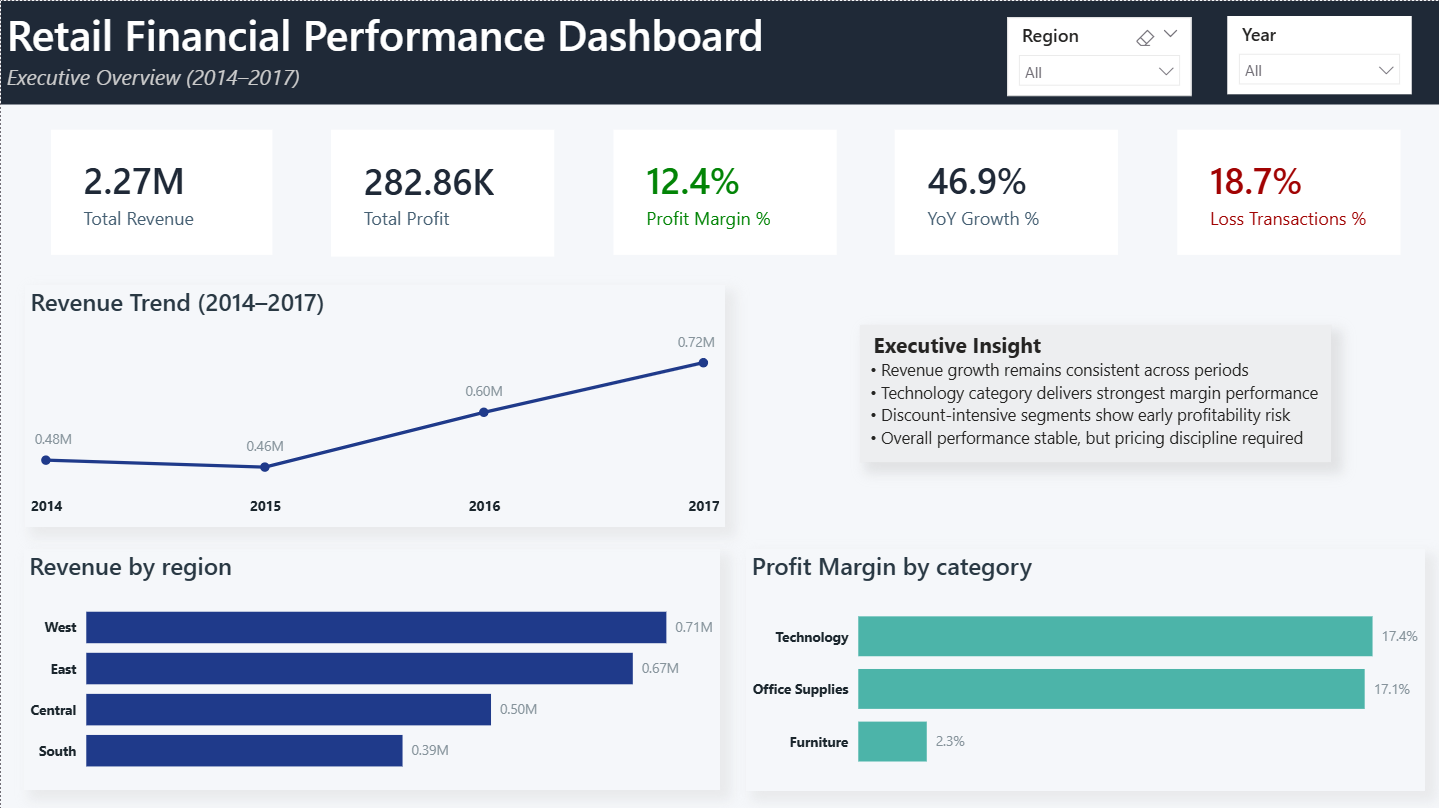

The dashboard page shown, as its layout file describes it:
{"tool":"powerbi","page":{"name":"Executive Overview","canvas":[1280,720],"ordinal":0},"visuals":[{"type":"cardVisual","fields":{"Data":["retail_analysis orders.Total Revenue"]},"box":[44,114.9,196.9,111.3],"z":0},{"type":"cardVisual","fields":{"Data":["retail_analysis orders.Profit Margin %"]},"box":[544.2,114.9,198.1,111.3],"z":1000},{"type":"cardVisual","fields":{"Data":["retail_analysis orders.YoY Growth %"]},"box":[794.8,114.9,198.1,111.3],"z":2000},{"type":"cardVisual","fields":{"Data":["retail_analysis orders.Loss Transactions %"]},"box":[1045.5,114.9,198.1,111.3],"z":3000},{"type":"lineChart","title":"Revenue Trend (2014–2017)","fields":{"Category":["retail_analysis orders.order_date.Variation.Date Hierarchy.Year"],"Y":["retail_analysis orders.Total Revenue"]},"box":[20.8,251.9,622.4,215.2],"z":4000},{"type":"barChart","title":"Revenue by region","fields":{"Category":["retail_analysis orders.region"],"Y":["retail_analysis orders.Total Revenue"]},"box":[20.5,486.2,618.9,214.7],"z":5000},{"type":"barChart","title":"Profit Margin by category","fields":{"Category":["retail_analysis products.category"],"Y":["retail_analysis orders.Profit Margin %"]},"box":[662.8,486.7,604.1,215.2],"z":6000},{"type":"textbox","box":[0,0,1280.3,91.7],"z":7000},{"type":"cardVisual","fields":{"Data":["retail_analysis orders.Total Profit"]},"box":[293.5,114.9,198.1,112.5],"z":8000},{"type":"slicer","fields":{"Values":["retail_analysis orders.region"]},"box":[893.9,14.7,163.9,69.7],"z":9000},{"type":"slicer","fields":{"Values":["retail_analysis orders.order_date.Variation.Date Hierarchy.Year","retail_analysis orders.order_date.Variation.Date Hierarchy.Quarter","retail_analysis orders.order_date.Variation.Date Hierarchy.Month","retail_analysis orders.order_date.Variation.Date Hierarchy.Day"]},"box":[1089.5,13.5,163.9,69.7],"z":10000},{"type":"textbox","box":[763,287.4,419.4,122.3],"z":11000}]}

Visuals, with their boxes in screenshot pixels (x1, y1, x2, y2), scaled from the page's 1280x720 canvas onto the 1439x808 screenshot:
cardVisual - retail_analysis orders.Total Revenue: left=49, top=129, right=271, bottom=254
cardVisual - retail_analysis orders.Profit Margin %: left=612, top=129, right=835, bottom=254
cardVisual - retail_analysis orders.YoY Growth %: left=894, top=129, right=1116, bottom=254
cardVisual - retail_analysis orders.Loss Transactions %: left=1175, top=129, right=1398, bottom=254
"Revenue Trend (2014–2017)" lineChart: left=23, top=283, right=723, bottom=524
"Revenue by region" barChart: left=23, top=546, right=719, bottom=787
"Profit Margin by category" barChart: left=745, top=546, right=1424, bottom=788
textbox: left=0, top=0, right=1438, bottom=103
cardVisual - retail_analysis orders.Total Profit: left=330, top=129, right=553, bottom=255
slicer - retail_analysis orders.region: left=1005, top=16, right=1189, bottom=95
slicer - retail_analysis orders.order_date.Variation.Date Hierarchy.Year x retail_analysis orders.order_date.Variation.Date Hierarchy.Quarter: left=1225, top=15, right=1409, bottom=93
textbox: left=858, top=323, right=1329, bottom=460
